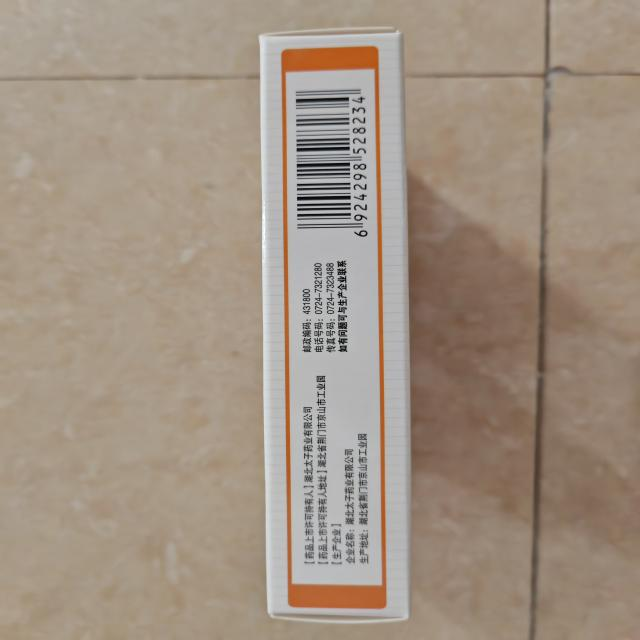box: (248, 22, 427, 630)
